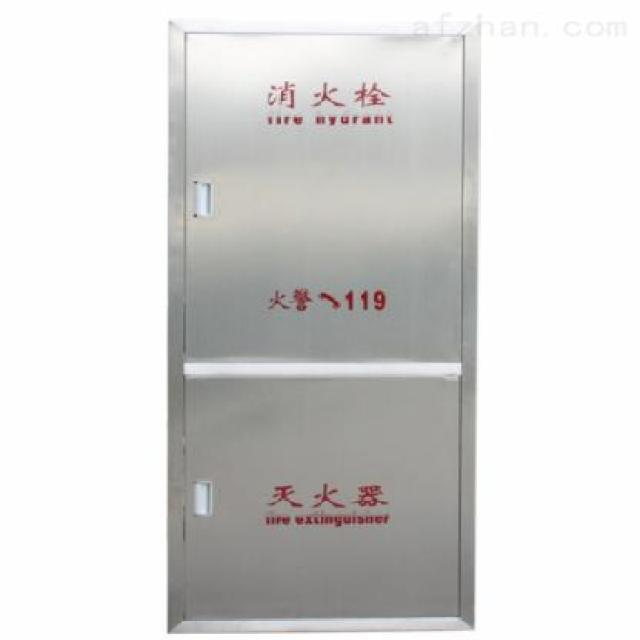firehydrant: (160, 10, 485, 638)
